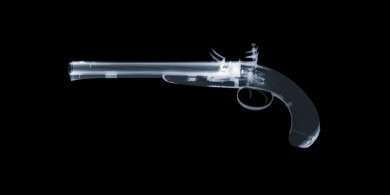gun: (66, 42, 321, 149)
